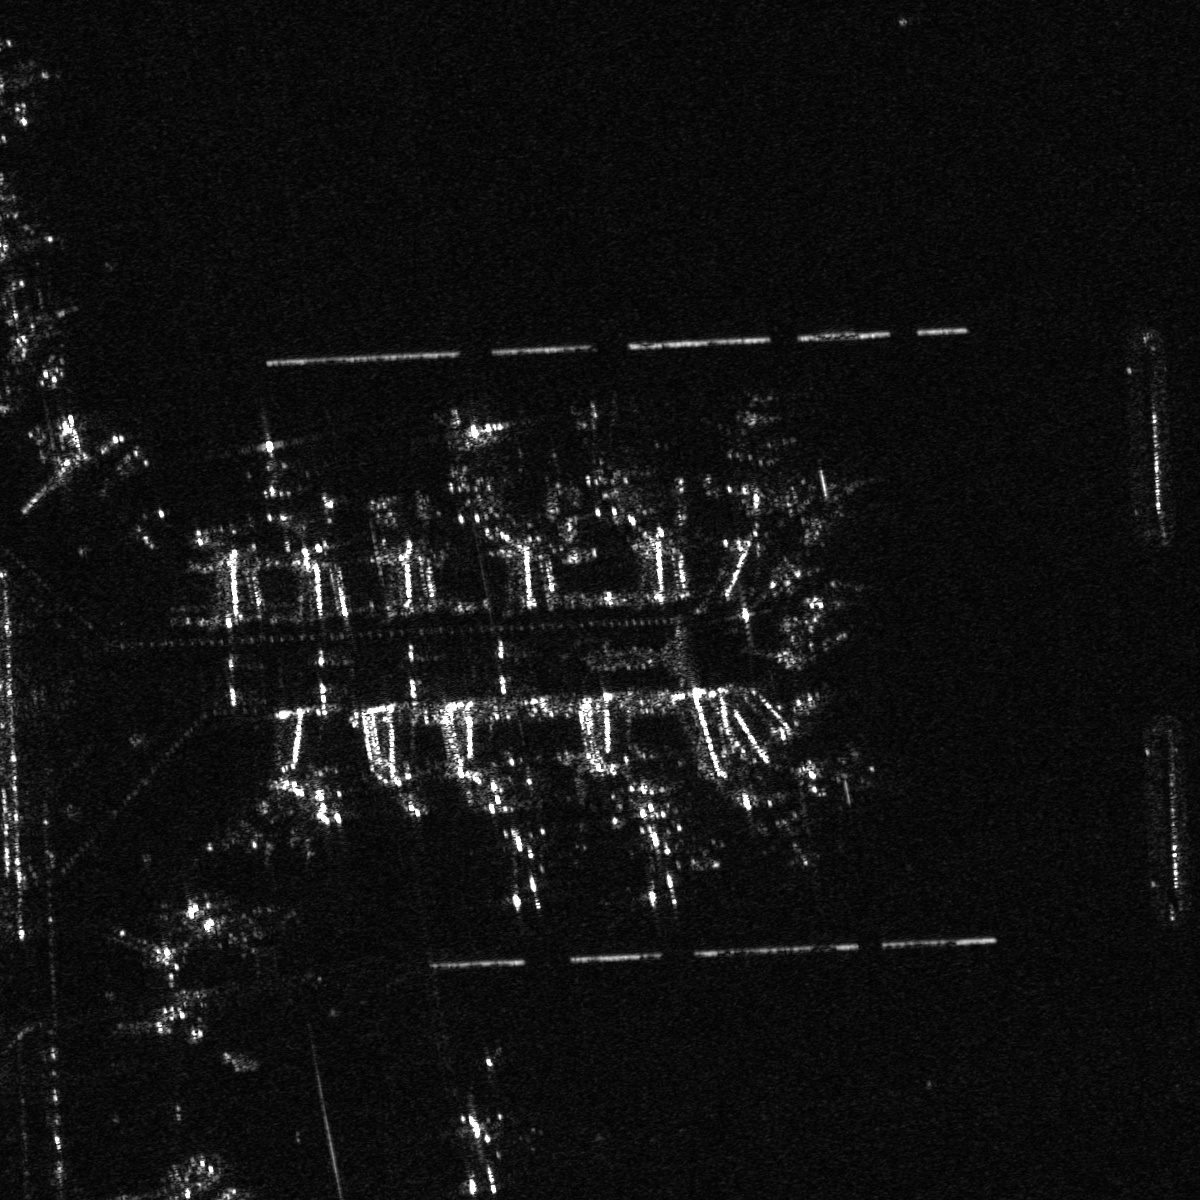A220: (240, 432, 311, 527)
A320/321: (689, 385, 802, 501), (422, 400, 513, 527), (564, 398, 649, 519), (615, 795, 696, 911), (773, 734, 884, 816), (162, 1142, 276, 1199)
A330: (175, 891, 298, 973)
Boeing737: (731, 784, 826, 868)
Boeing787: (476, 816, 563, 911)
other: (436, 1088, 524, 1199)
